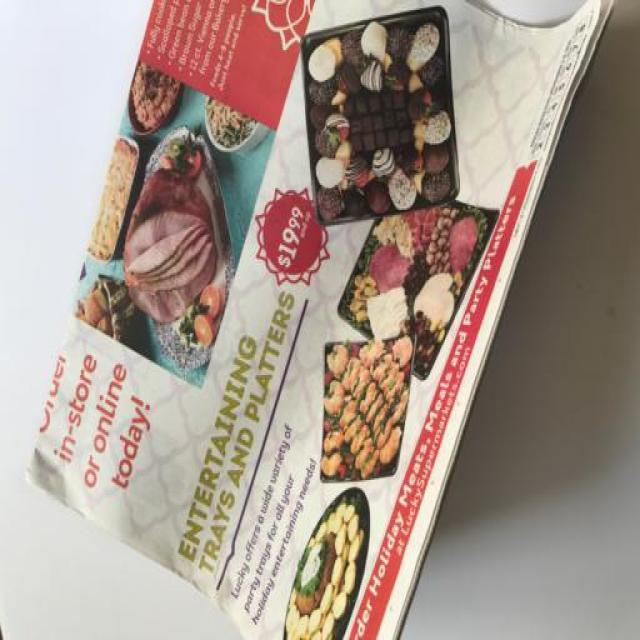paper: (57, 5, 526, 600)
